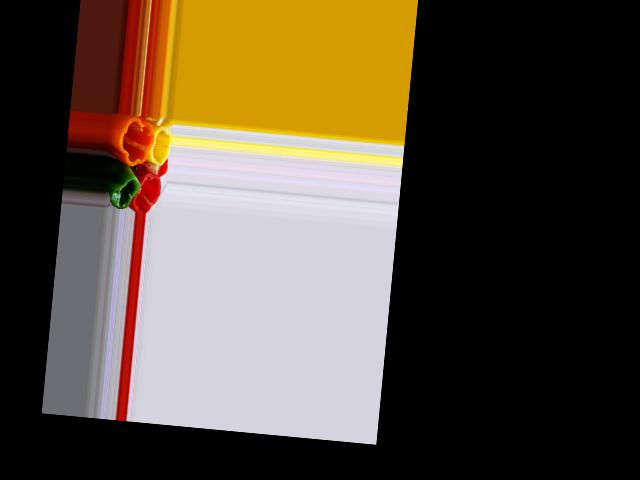bell_pepper: (133, 171, 163, 212)
